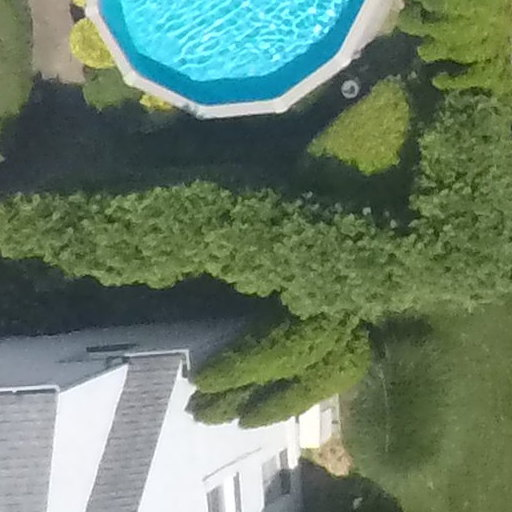container: (335, 78, 363, 100)
pool: (57, 1, 395, 133)
